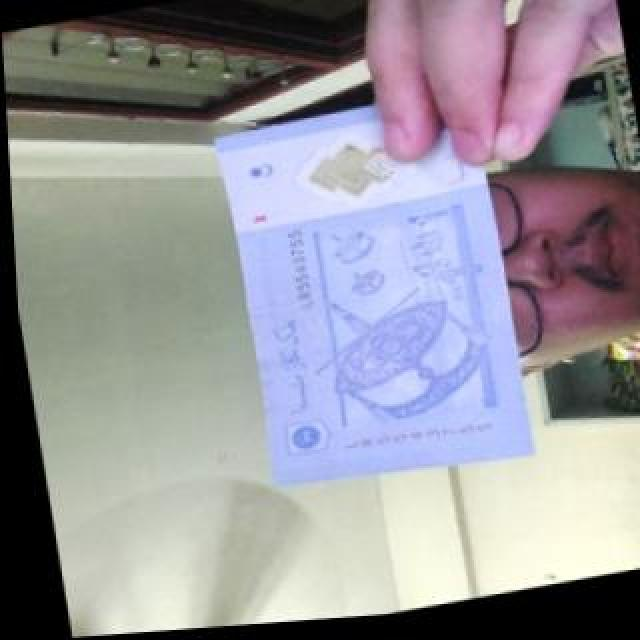1 Ringgit: (202, 82, 537, 516)
